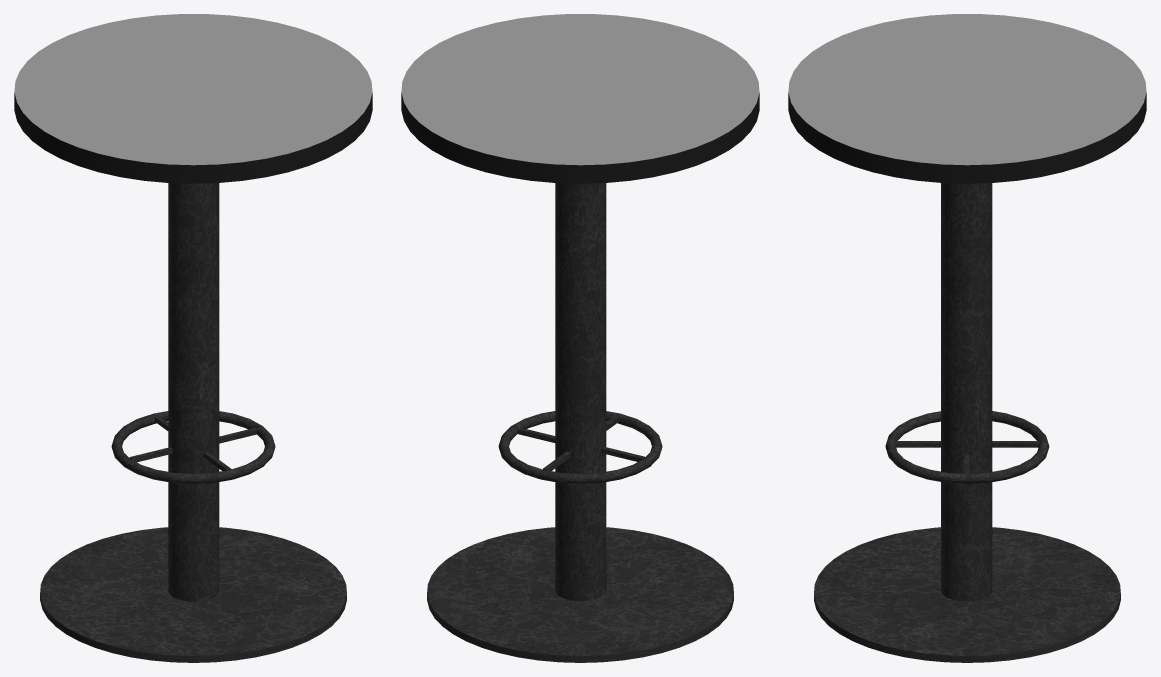
The model's file is Bar table 2.FBX.
The picture shows the model from 3 angles, left to right: view 1: azimuth 30°, elevation 25°; view 2: azimuth 150°, elevation 25°; view 3: azimuth 270°, elevation 25°; orthographic projection.
Visible parts, largest first — view 1: bar table 2; view 2: bar table 2; view 3: bar table 2.
Boxes of the visible parts, left/top/right/bottom form: bar table 2: left=14, top=14, right=372, bottom=662; bar table 2: left=401, top=14, right=759, bottom=662; bar table 2: left=788, top=14, right=1146, bottom=662.
Size of the model in its own units: 69.91 by 110 by 69.96.
Materials: 3 (3 with a texture image).
